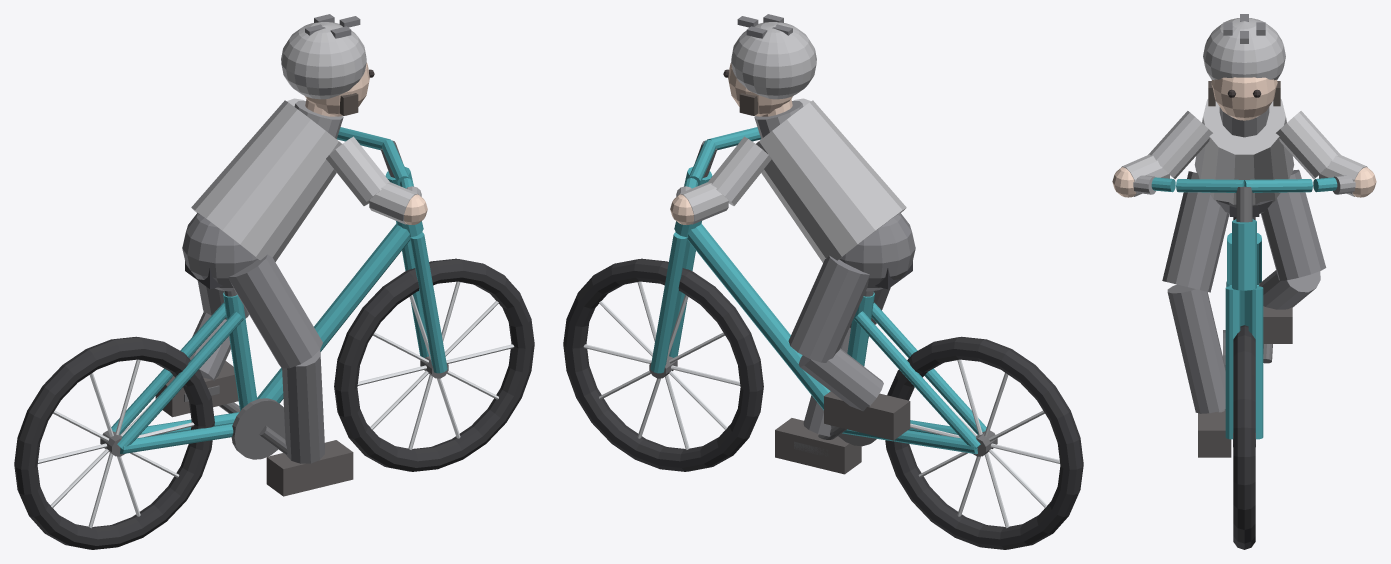
File: 44-cyclist.glb
3 renders of one model, left to right at view 1: azimuth 30°, elevation 25°; view 2: azimuth 150°, elevation 25°; view 3: azimuth 270°, elevation 25°, orthographic.
Parts seen in each view (by area): view 1: TireFront, TireRear, Torso, ThighR, Helmet, ShinR, DownTube, Hips, ShoeR, Chainring, ArmUpR, SeatStayR (+10 smaller); view 2: TireFront, Torso, TireRear, ThighL, Helmet, DownTube, Hips, ShoeR, ShoeL, ShinL, ArmUpL, SeatStayL (+9 smaller); view 3: Torso, TireFront, ShinR, ThighR, ThighL, Helmet, ArmUpL, ArmUpR, Head, HeadTube, ForkBladeL, ForkBladeR (+13 smaller).
Part boxes in pixels (box(x1,y1,x2,y2)): TireFront: box(334, 258, 534, 471); TireRear: box(14, 336, 214, 549); Torso: box(191, 100, 341, 261); ThighR: box(228, 254, 322, 368); Helmet: box(281, 22, 366, 99); ShinR: box(282, 350, 324, 463); DownTube: box(257, 223, 410, 403); Hips: box(182, 212, 257, 291); ShoeR: box(266, 440, 353, 496); Chainring: box(231, 398, 285, 459); ArmUpR: box(326, 136, 390, 205); SeatStayR: box(117, 311, 243, 449); TireFront: box(563, 258, 763, 471); Torso: box(756, 100, 906, 262); TireRear: box(885, 336, 1083, 549); ThighL: box(788, 255, 869, 362); Helmet: box(731, 22, 816, 99); DownTube: box(687, 223, 830, 410); Hips: box(839, 212, 915, 291); ShoeR: box(775, 418, 861, 474); ShoeL: box(824, 391, 910, 440); ShinL: box(798, 348, 883, 411); ArmUpL: box(707, 136, 771, 205); SeatStayL: box(854, 311, 980, 449); Torso: box(1194, 99, 1294, 204); TireFront: box(1233, 325, 1255, 549); ShinR: box(1167, 284, 1225, 413); ThighR: box(1162, 171, 1229, 292); ThighL: box(1260, 169, 1326, 280); Helmet: box(1203, 18, 1285, 80); ArmUpL: box(1276, 111, 1340, 178); ArmUpR: box(1148, 111, 1212, 178); Head: box(1211, 77, 1277, 120); HeadTube: box(1232, 219, 1256, 290); ForkBladeL: box(1248, 286, 1263, 439); ForkBladeR: box(1225, 286, 1240, 439).
Bounding box in the file's own units: 1.78 × 1.54 × 0.796.
